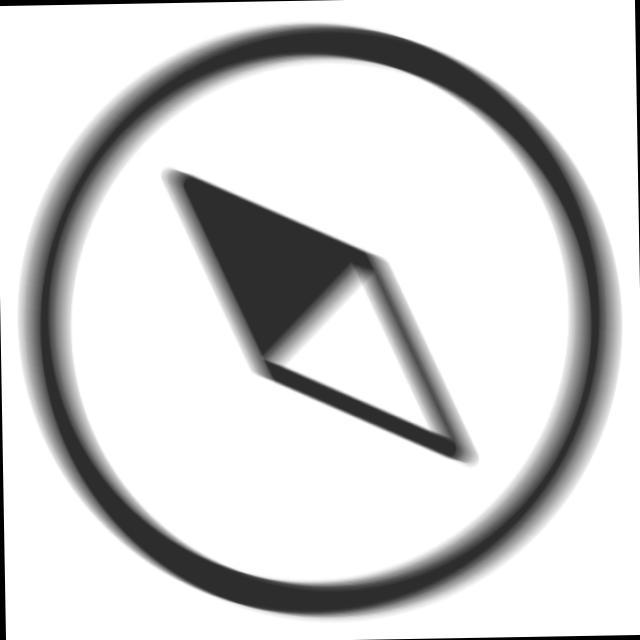compass: (5, 9, 634, 640)
